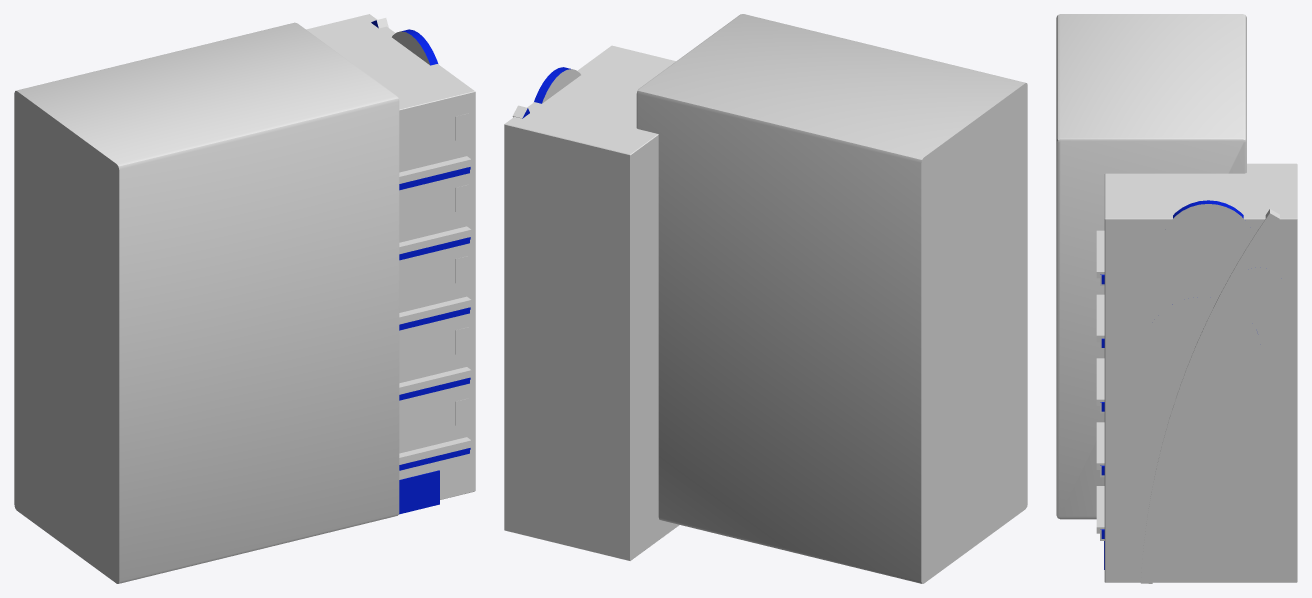
Rendered from HighriseA.fbx.
3 views of the same model, side by side, from view 1: azimuth 30°, elevation 25°; view 2: azimuth 150°, elevation 25°; view 3: azimuth 270°, elevation 25° (orthographic). The views are drawn at different scales.
Parts seen in each view (by area): view 1: Cutter.006, Box.001, Cutter, Cutter.004, Cutter.005, Cutter.001, Cutter.010; view 2: Cutter.006, Box.001, Cutter.010; view 3: Box.001, Cutter.006, Cutter.012, Cutter.010, Cutter.013, Cutter.011, Cutter.
Part boxes in pixels (x1,y1,x2,y2): Cutter.006: (14,22,399,583); Box.001: (306,14,475,499); Cutter: (399,159,471,458); Cutter.004: (399,167,469,470); Cutter.005: (455,113,468,425); Cutter.001: (399,470,439,514); Cutter.010: (392,29,438,65); Cutter.006: (636,14,1027,583); Box.001: (504,45,679,560); Cutter.010: (534,67,580,103); Box.001: (1096,163,1297,582); Cutter.006: (1056,14,1246,519); Cutter.012: (1143,297,1260,403); Cutter.010: (1162,200,1253,287); Cutter.013: (1140,209,1279,583); Cutter.011: (1229,267,1287,321); Cutter: (1096,272,1104,533).
Bounding box in the file's own units: 1548 × 1703 × 925.
